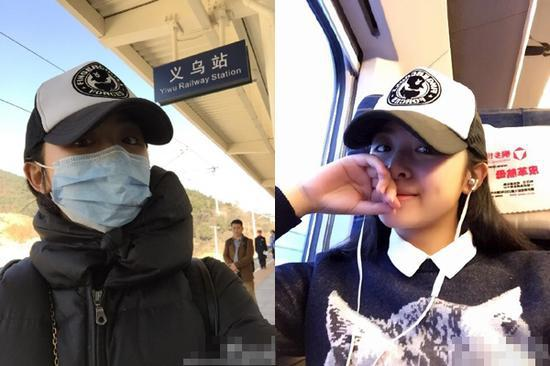NONE: (365, 121, 472, 228), (234, 224, 244, 237)
OK: (48, 116, 157, 225)
